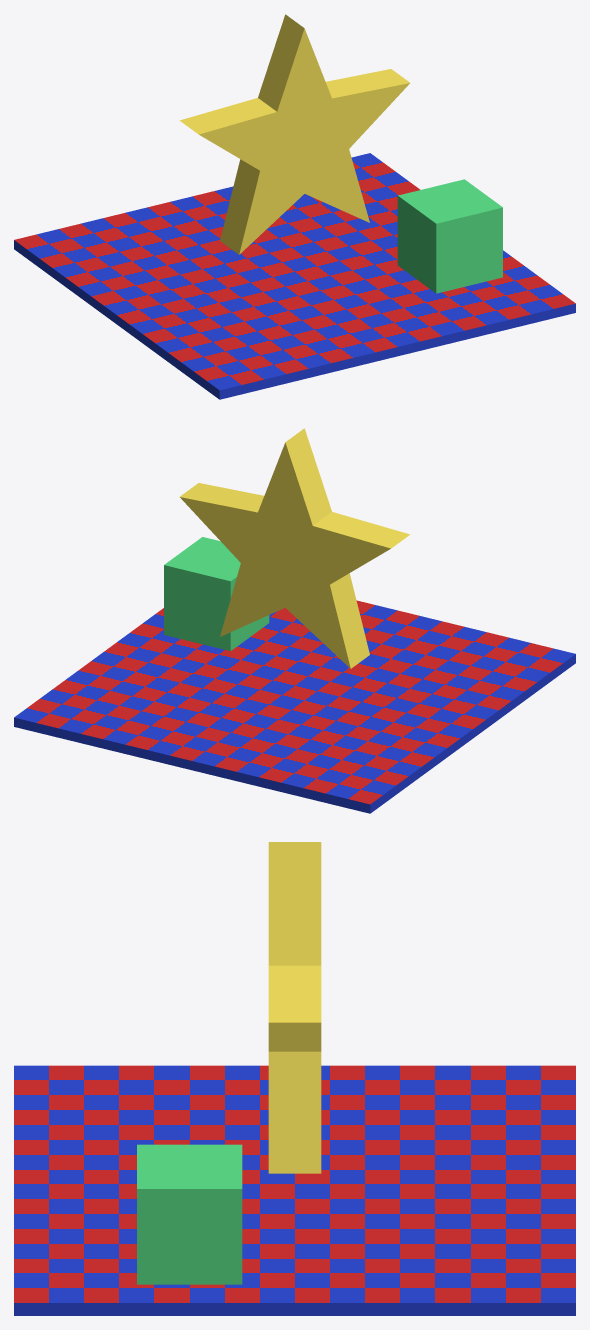
Rendered from star-test.glb.
3 views of the same model, one above another, from view 1: azimuth 30°, elevation 25°; view 2: azimuth 150°, elevation 25°; view 3: azimuth 270°, elevation 25° (orthographic). The views are drawn at different scales.
Visible parts, largest first — view 1: plate, star, cube; view 2: plate, star, cube; view 3: plate, star, cube.
Part boxes in pixels (x1,y1,x2,y2): plate: [14, 153, 575, 399]; star: [180, 14, 409, 254]; cube: [397, 179, 502, 293]; plate: [14, 600, 575, 813]; star: [180, 428, 409, 668]; cube: [164, 537, 269, 651]; plate: [14, 1065, 575, 1315]; star: [268, 842, 321, 1173]; cube: [137, 1144, 242, 1284].
Bounding box in the file's own units: 3.2 × 2.23 × 3.2.
3 materials, 1 textured.
